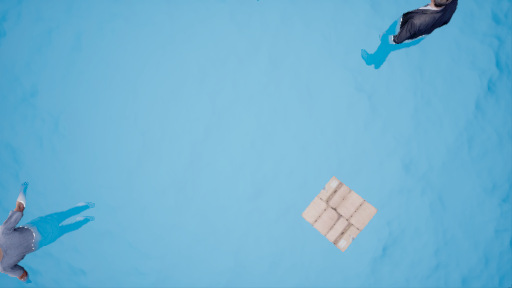person: (2, 185, 94, 274), (374, 2, 455, 75)
